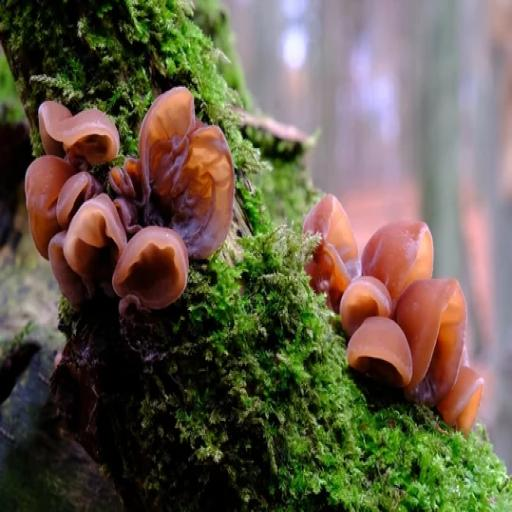Wood Ear Mushroom: (25, 81, 241, 306), (299, 188, 496, 431)
